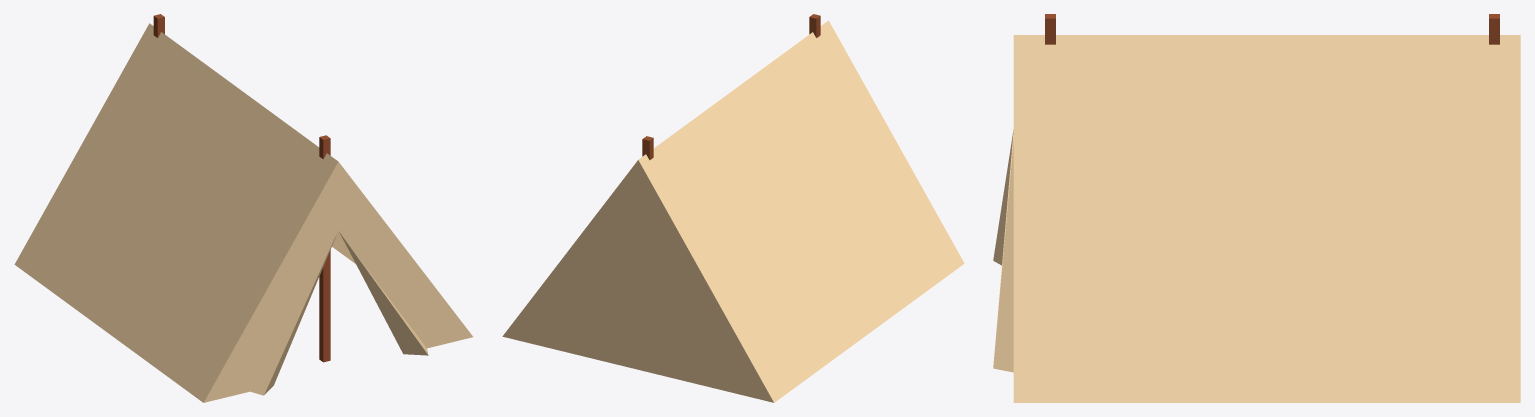
The model's file is Prop_Fantasy_Tent_Canvas_Triangular_01.FBX.
3 renders of one model, left to right at view 1: azimuth 30°, elevation 25°; view 2: azimuth 150°, elevation 25°; view 3: azimuth 270°, elevation 25°, orthographic. The views are drawn at different scales.
Visible parts, largest first — view 1: Prop_Fantasy_Tent_Canvas_Triangular_01; view 2: Prop_Fantasy_Tent_Canvas_Triangular_01; view 3: Prop_Fantasy_Tent_Canvas_Triangular_01.
Boxes of the visible parts, x1,y1,x2,y2 form: Prop_Fantasy_Tent_Canvas_Triangular_01: (14, 14, 472, 402); Prop_Fantasy_Tent_Canvas_Triangular_01: (502, 14, 964, 402); Prop_Fantasy_Tent_Canvas_Triangular_01: (993, 14, 1520, 402).
Bounding box in the file's own units: 3278 × 2581 × 4138.
